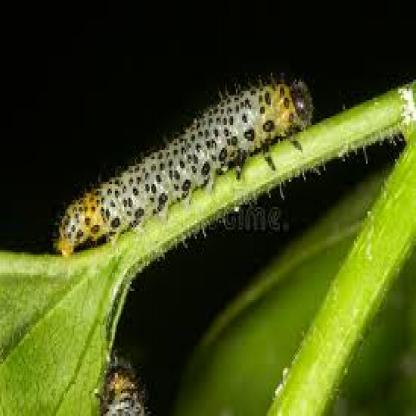sawfly: (48, 74, 317, 254), (92, 346, 161, 416)
